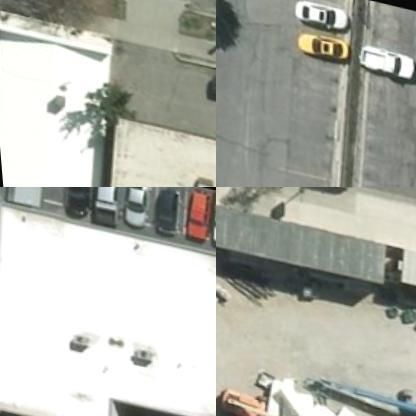car: (278, 21, 346, 63), (349, 38, 415, 81), (168, 187, 215, 244), (285, 0, 354, 38), (140, 187, 186, 238), (111, 187, 158, 232), (80, 187, 127, 225), (50, 187, 96, 218), (199, 187, 215, 252), (202, 66, 215, 103)
